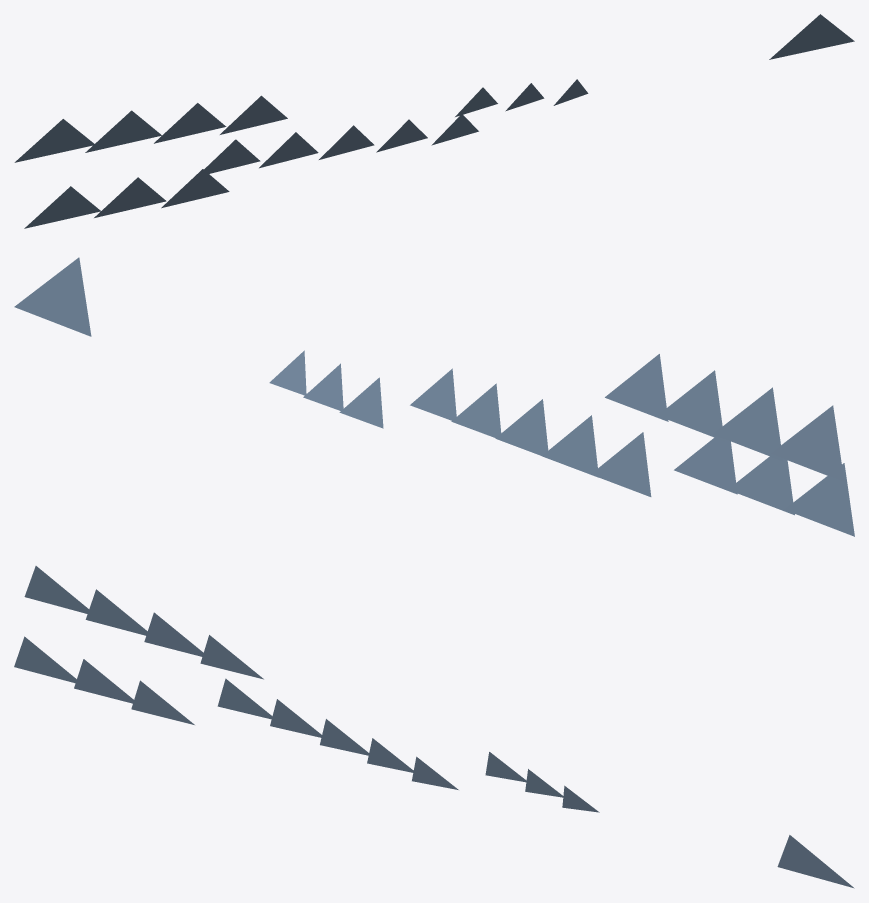
Rendered from prop_bulk_gen_0248_lod2.gltf.
The picture shows the model from 3 angles, top to bottom: view 1: azimuth 30°, elevation 25°; view 2: azimuth 150°, elevation 25°; view 3: azimuth 330°, elevation 25°; orthographic projection. The views are drawn at different scales.
Visible parts, largest first — view 1: prop_bulk_gen_0248_lod2; view 2: prop_bulk_gen_0248_lod2; view 3: prop_bulk_gen_0248_lod2.
Part boxes in pixels (x1,y1,x2,y2): prop_bulk_gen_0248_lod2: [14, 14, 854, 228]; prop_bulk_gen_0248_lod2: [14, 257, 854, 536]; prop_bulk_gen_0248_lod2: [14, 566, 854, 888].
Bounding box in the file's own units: 0.8537 × 0.1104 × 0.0785.
